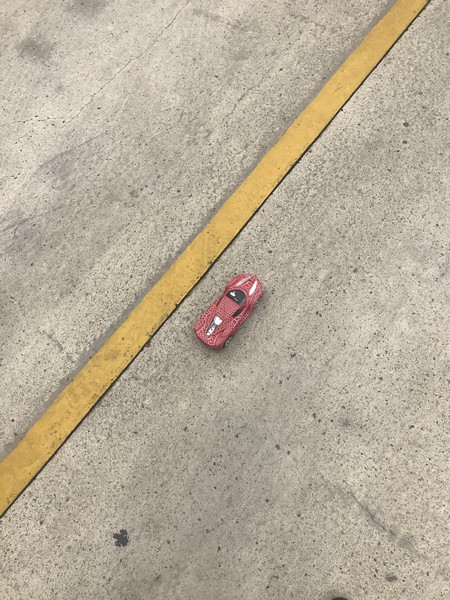RC: (192, 274, 265, 351)
